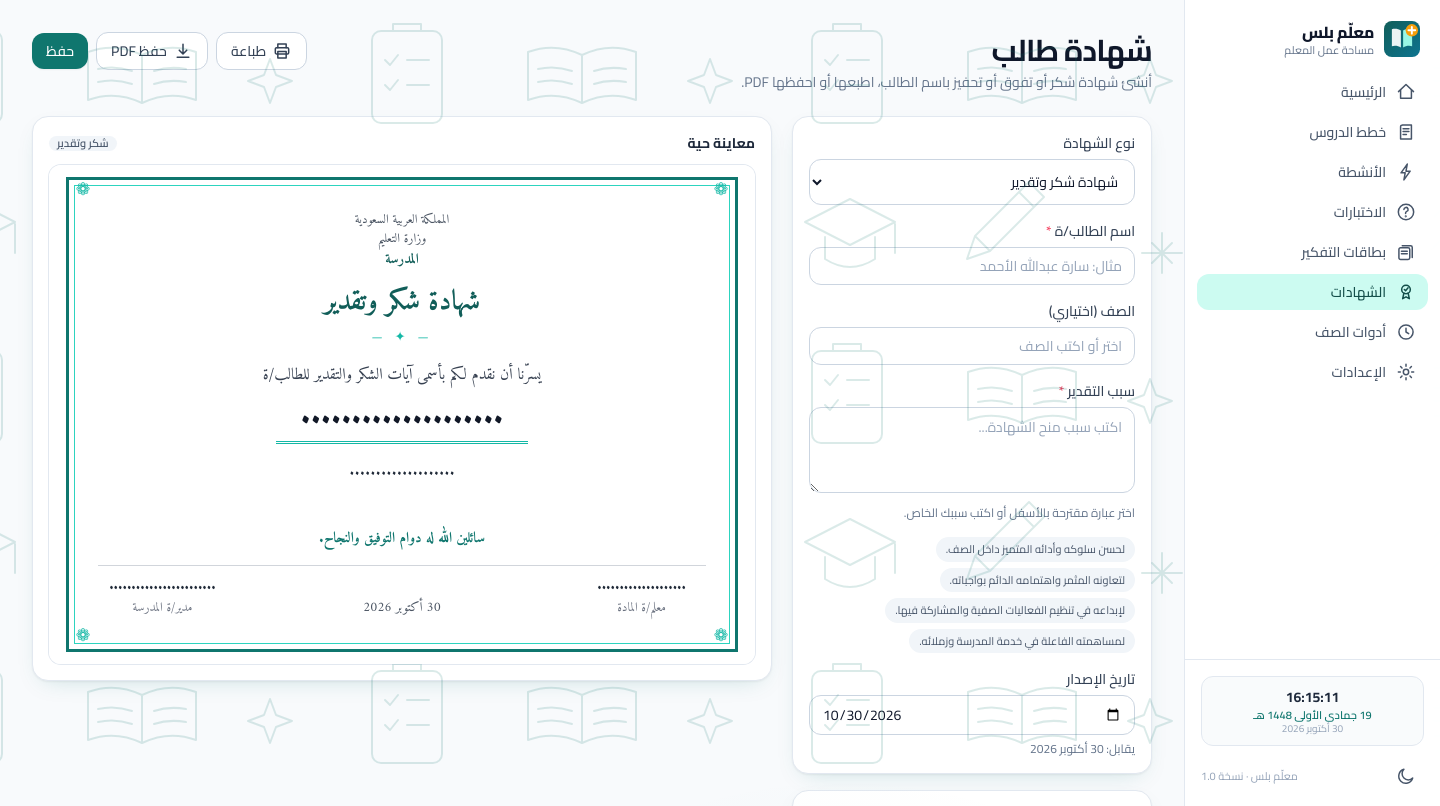
Test: محرر الشهادة › يمنع الحفظ دون اسم الطالب ويعرض رسالة الخطأ
Type "سبب ما." into the text box labelled "سبب التقدير *" at coordinates (972, 450), box [809,407,1135,493]
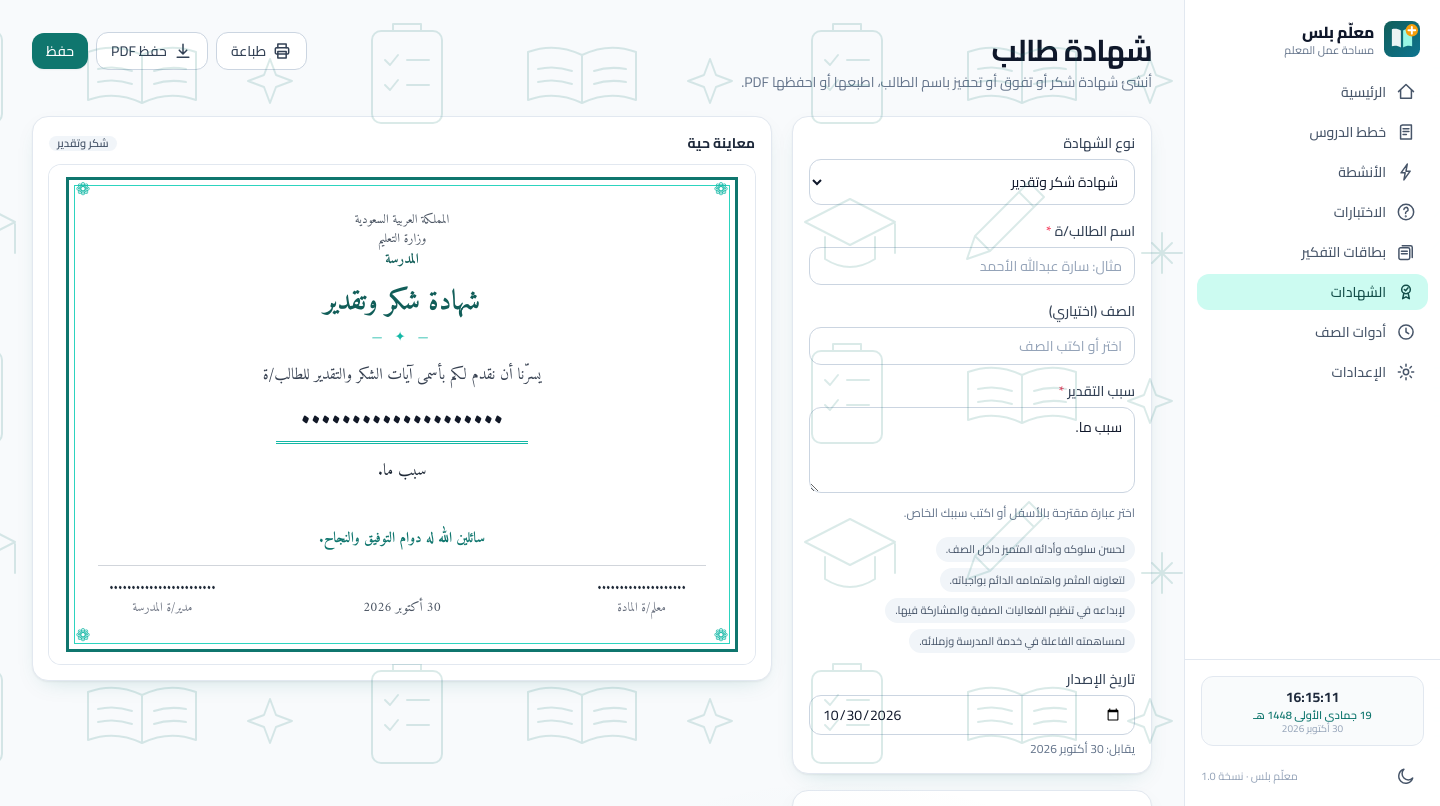
Click the button "حفظ" at coordinates (60, 51), box [32,33,88,69]
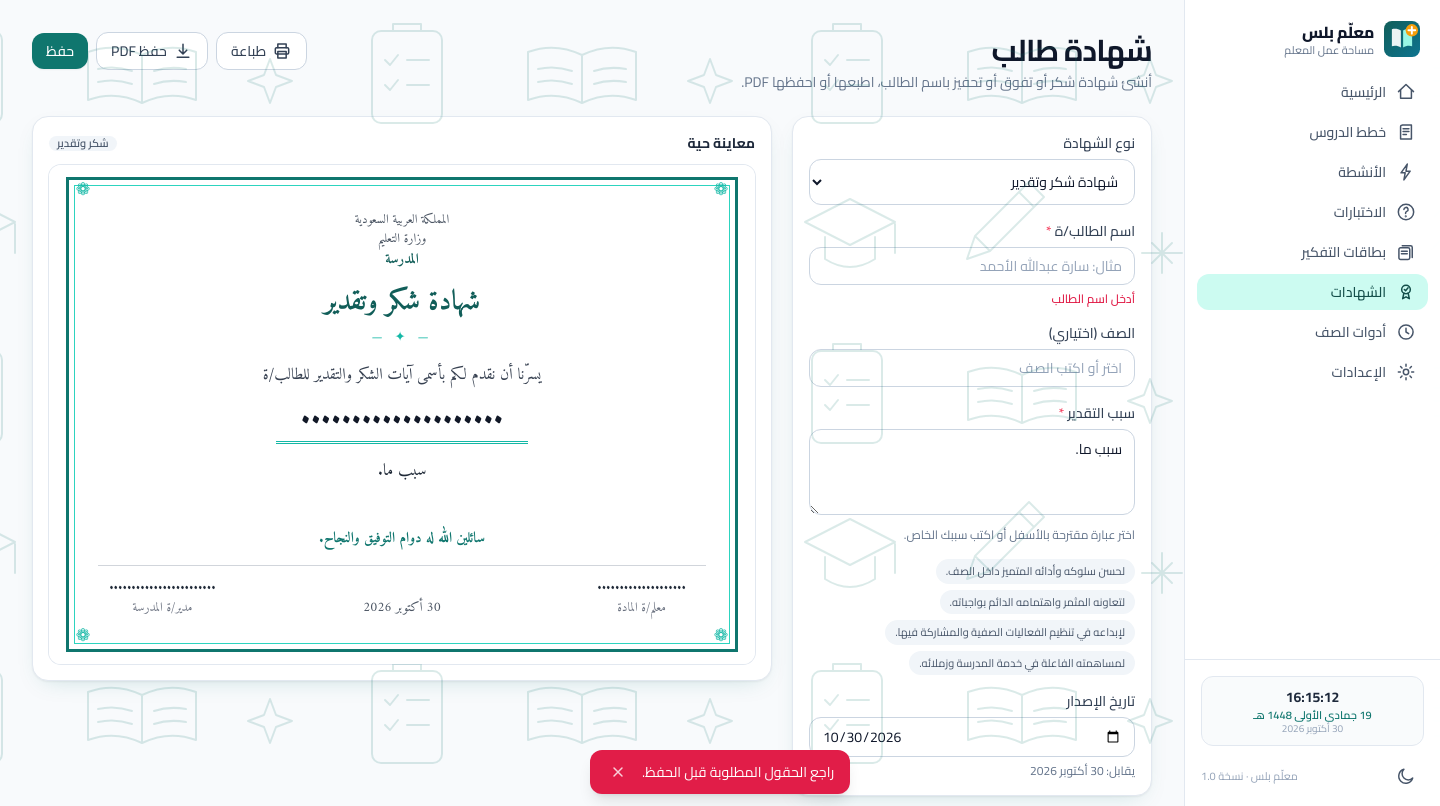
Expected: the text "أدخل اسم الطالب" is shown, [1052,287,1135,310]
